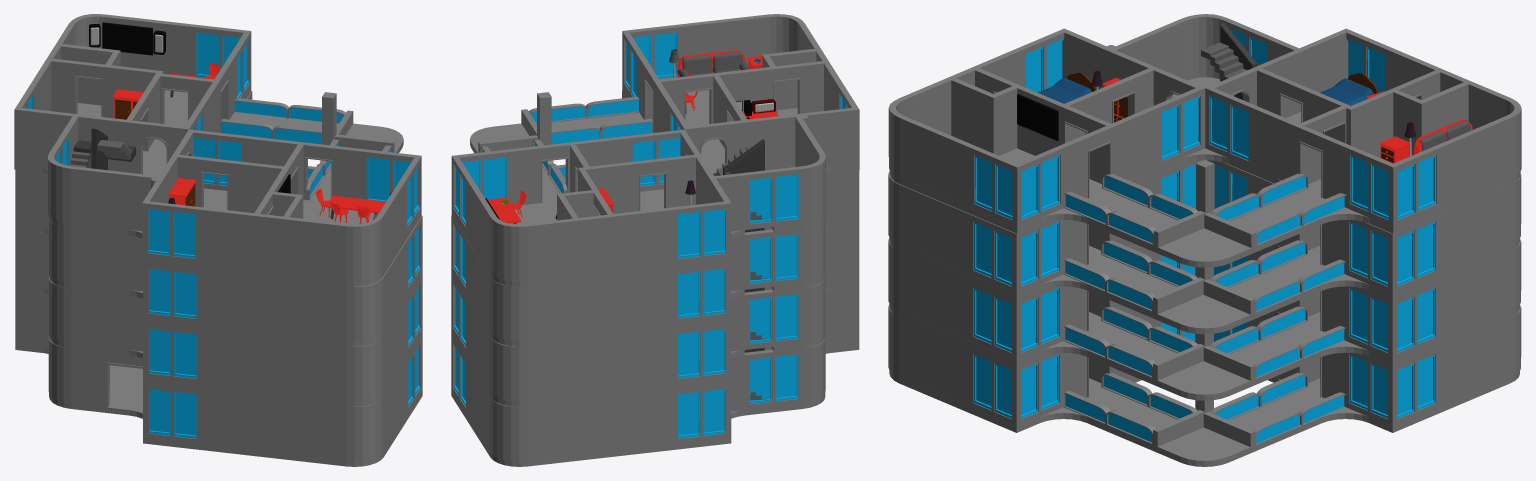
The model's file is CouncilFlat.fbx.
The picture shows the model from 3 angles, left to right: view 1: azimuth 30°, elevation 25°; view 2: azimuth 150°, elevation 25°; view 3: azimuth 270°, elevation 25°; orthographic projection. The views are drawn at different scales.
Visible parts, largest first — view 1: Wall_Full__4__3, Wall_Full__4_, Wall_Full__4__1, Wall_Full__4__2, Wall_Full_Rounded__1__3, Wall_Full_Rounded__1__1, Wall_Full_Rounded__1_, Wall_Full_Rounded__1__2, Wall_Full__18__2, Wall_Full_Rounded__2__3, Wall_Full_Rounded__2__2, Wall_Full__3__3 (+90 smaller); view 2: Wall_Full_Rounded_3, Wall_Full_Rounded, Wall_Full_Rounded_1, Wall_Full_Rounded_2, Wall_Full__2__3, Wall_Full__2_, Wall_Full__2__1, Wall_Full__2__2, Door_Offset_Square_3, Wall_Full_Rounded__2__3, Wall_Full__13__3, Wall_Full__5__3 (+92 smaller); view 3: Wall_Full_Rounded__1__3, Wall_Full__7__3, Wall_Full_3, Wall_Full__14__3, Wall_Full__7__2, Wall_Full_2, Wall_Full, Wall_Full__7_, Wall_Full__7__1, Wall_Full_1, Wall_Full__6__3, Wall_Full__9__3 (+121 smaller).
Part boxes in pixels (<box>): Wall_Full__4__3: <box>200,207,258,270</box>; Wall_Full__4_: <box>201,390,259,450</box>; Wall_Full__4__1: <box>201,330,259,390</box>; Wall_Full__4__2: <box>201,270,259,330</box>; Wall_Full_Rounded__1__3: <box>48,153,100,226</box>; Wall_Full_Rounded__1__1: <box>48,276,100,346</box>; Wall_Full_Rounded__1_: <box>48,336,100,406</box>; Wall_Full_Rounded__1__2: <box>48,219,100,286</box>; Wall_Full__18__2: <box>99,169,158,231</box>; Wall_Full_Rounded__2__3: <box>346,204,390,281</box>; Wall_Full_Rounded__2__2: <box>346,265,391,341</box>; Wall_Full__3__3: <box>14,107,73,167</box>; Wall_Full_Rounded_3: <box>490,216,556,281</box>; Wall_Full_Rounded: <box>490,397,556,461</box>; Wall_Full_Rounded_1: <box>490,337,556,401</box>; Wall_Full_Rounded_2: <box>490,277,556,341</box>; Wall_Full__2__3: <box>613,207,673,270</box>; Wall_Full__2_: <box>614,390,672,450</box>; Wall_Full__2__1: <box>614,330,672,390</box>; Wall_Full__2__2: <box>614,270,672,330</box>; Door_Offset_Square_3: <box>510,142,569,204</box>; Wall_Full_Rounded__2__3: <box>739,14,804,65</box>; Wall_Full__13__3: <box>743,114,800,170</box>; Wall_Full__5__3: <box>800,107,859,167</box>; Wall_Full_Rounded__1__3: <box>1158,14,1228,80</box>; Wall_Full__7__3: <box>923,126,974,207</box>; Wall_Full_3: <box>1436,126,1487,207</box>; Wall_Full__14__3: <box>1111,106,1158,180</box>; Wall_Full__7__2: <box>922,194,969,274</box>; Wall_Full_2: <box>1439,194,1486,274</box>; Wall_Full: <box>1439,327,1486,406</box>; Wall_Full__7_: <box>922,327,969,406</box>; Wall_Full__7__1: <box>922,261,969,340</box>; Wall_Full_1: <box>1439,261,1486,340</box>; Wall_Full__6__3: <box>947,76,998,155</box>; Wall_Full__9__3: <box>1252,106,1303,180</box>.
Size of the model in its own units: 2674 by 1879 by 3811.
